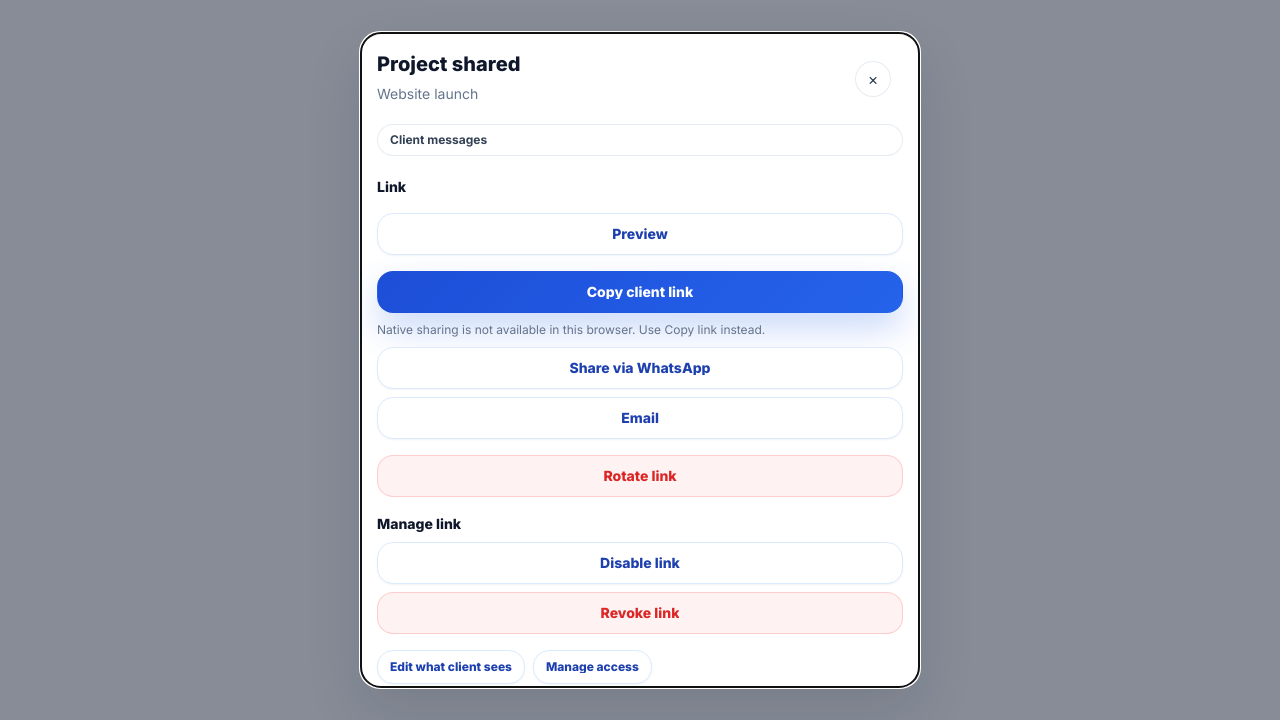
Scenario: ShareLinkPanel - Phase 7D owner-configuration closure (PIN/Expiry/task-and-resource mapping/visibility) › clicking 'Edit what client sees' shows the configuration editor (title/status/target-date visibility, tasks, resources), with a way back
Click the button "Edit what client sees": (451, 667) [377,650,525,684]
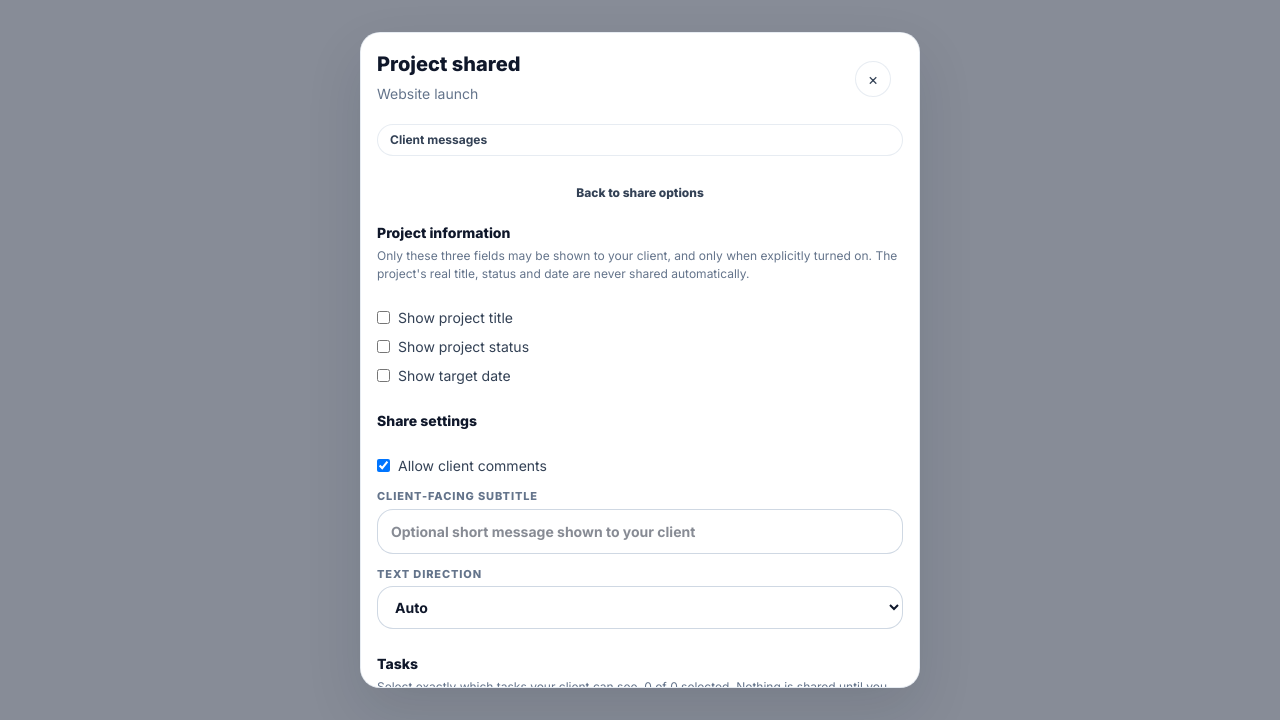
Result: the text "Show project title" is shown at [398,307,513,328]
Result: the text "Show project status" is shown at [398,336,529,357]
Result: the text "Show target date" is shown at [398,365,511,386]
Click the button "Back to share options": (640, 193) [377,176,903,210]
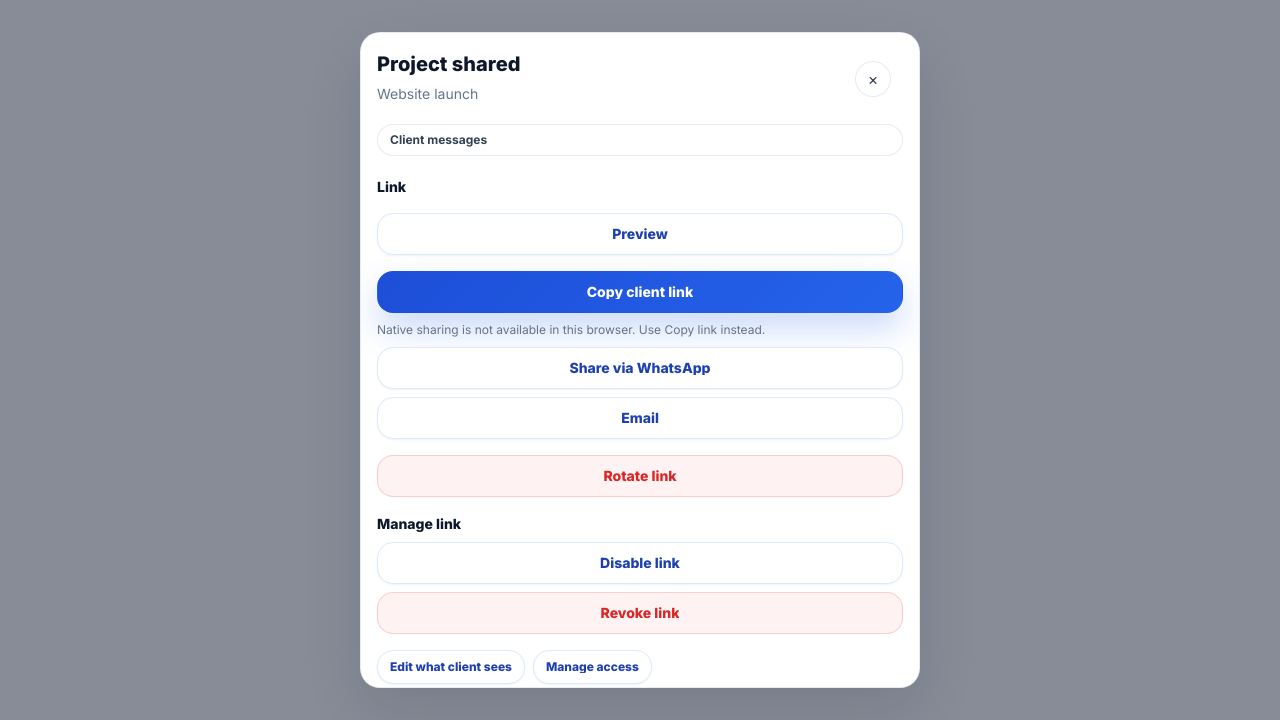
Result: the button "Rotate link" is shown at [377,455,903,497]
